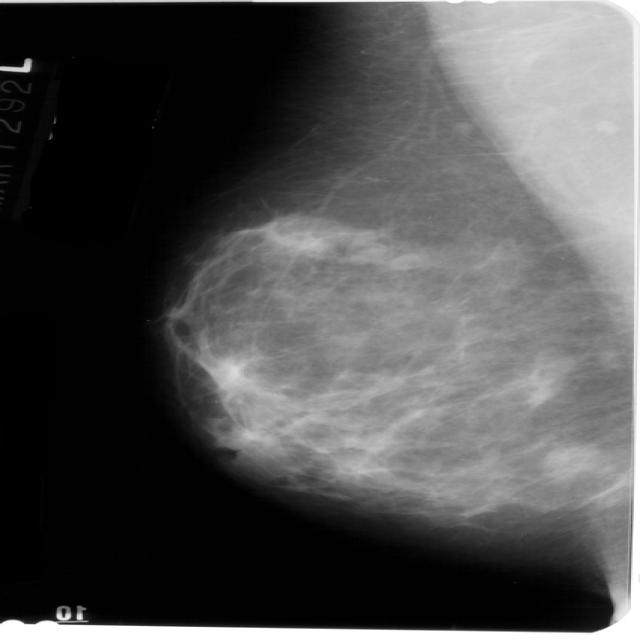tumour: (542, 441, 598, 479)
